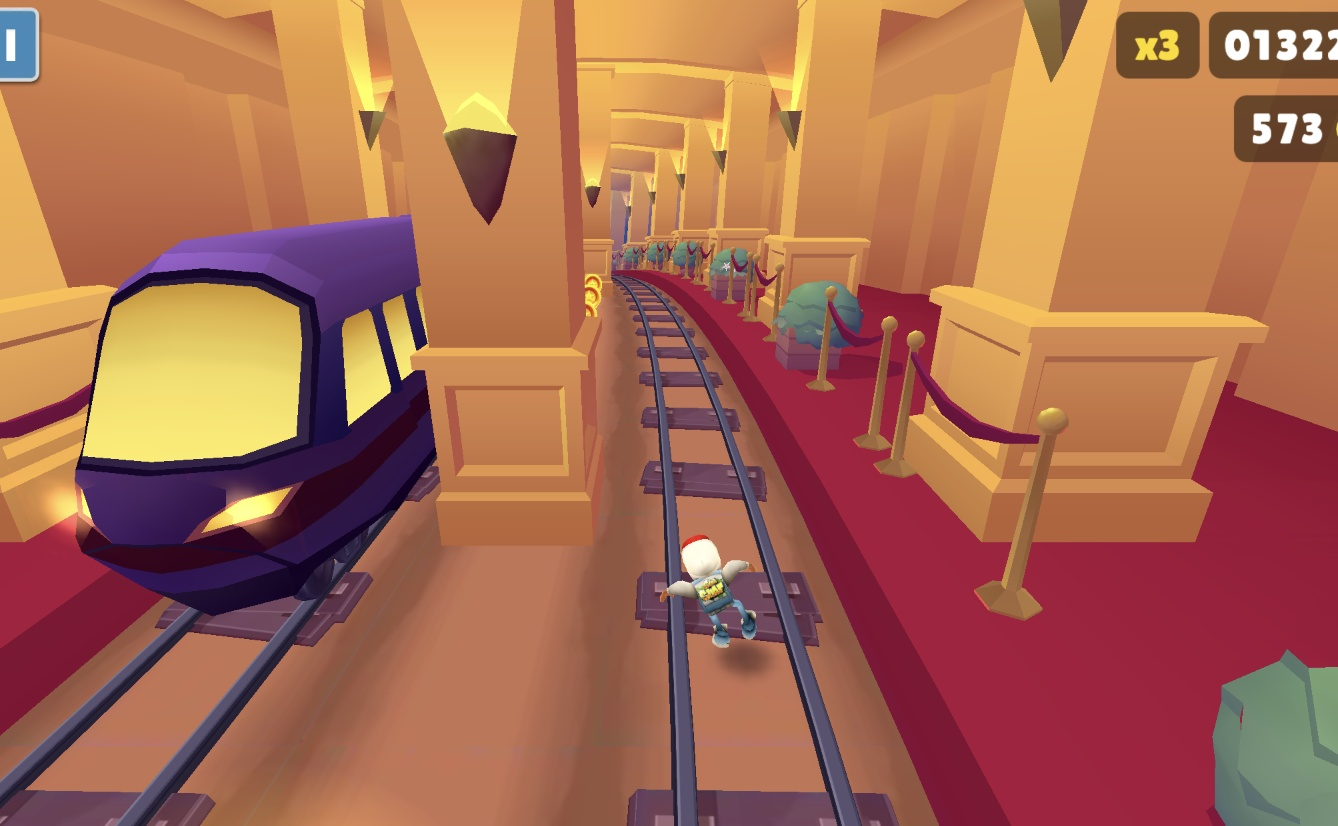pillar: (317, 0, 602, 564)
train: (72, 212, 442, 614)
